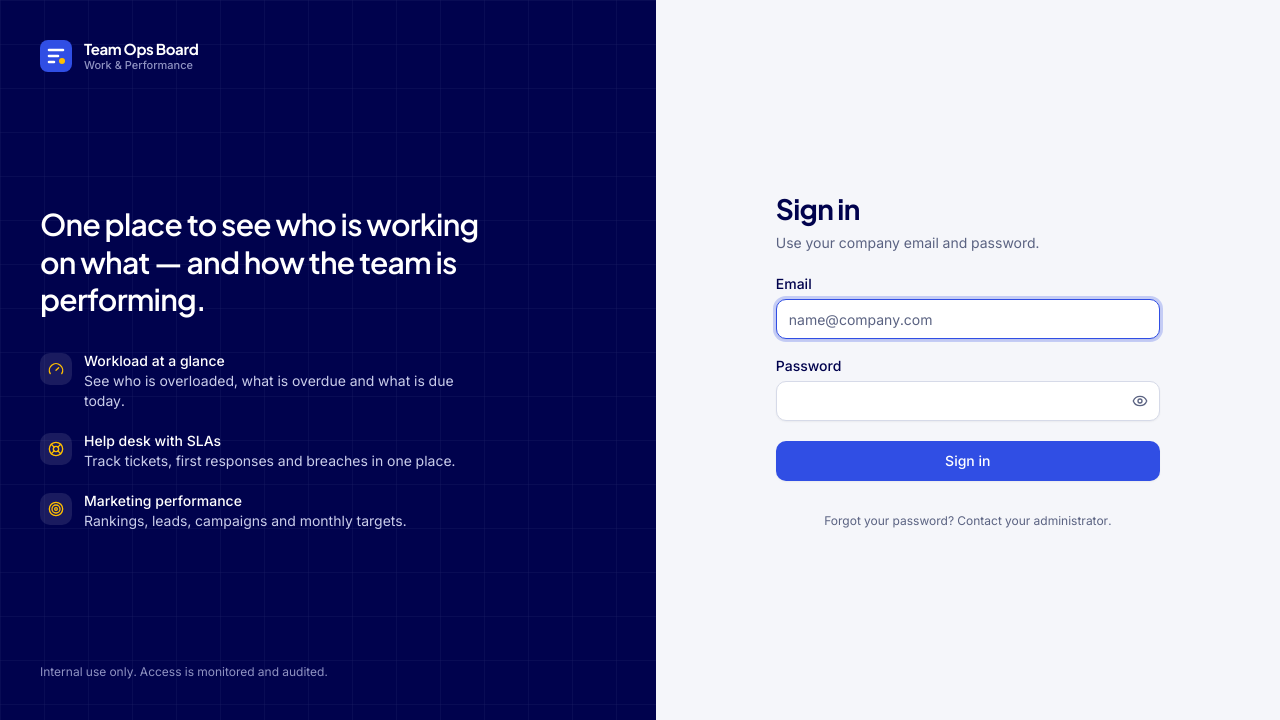
LoginPage › shows the server message when credentials are rejected
The width and height of the screenshot is (1280, 720).
Type "rakesh@teamops.local" into the field labelled "Email". click: (968, 319)
box: [776,299,1160,339]
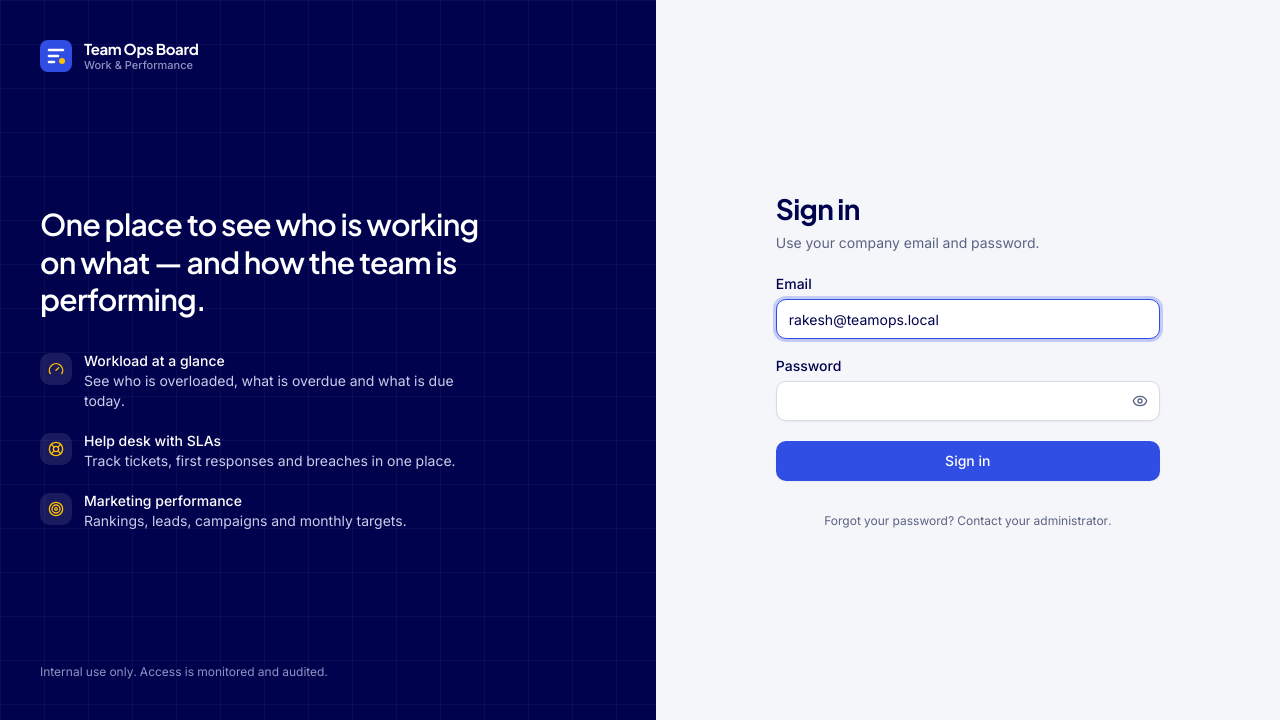
Type "wrong" into the password field labelled "Password". click: (968, 401)
box: [776,381,1160,421]
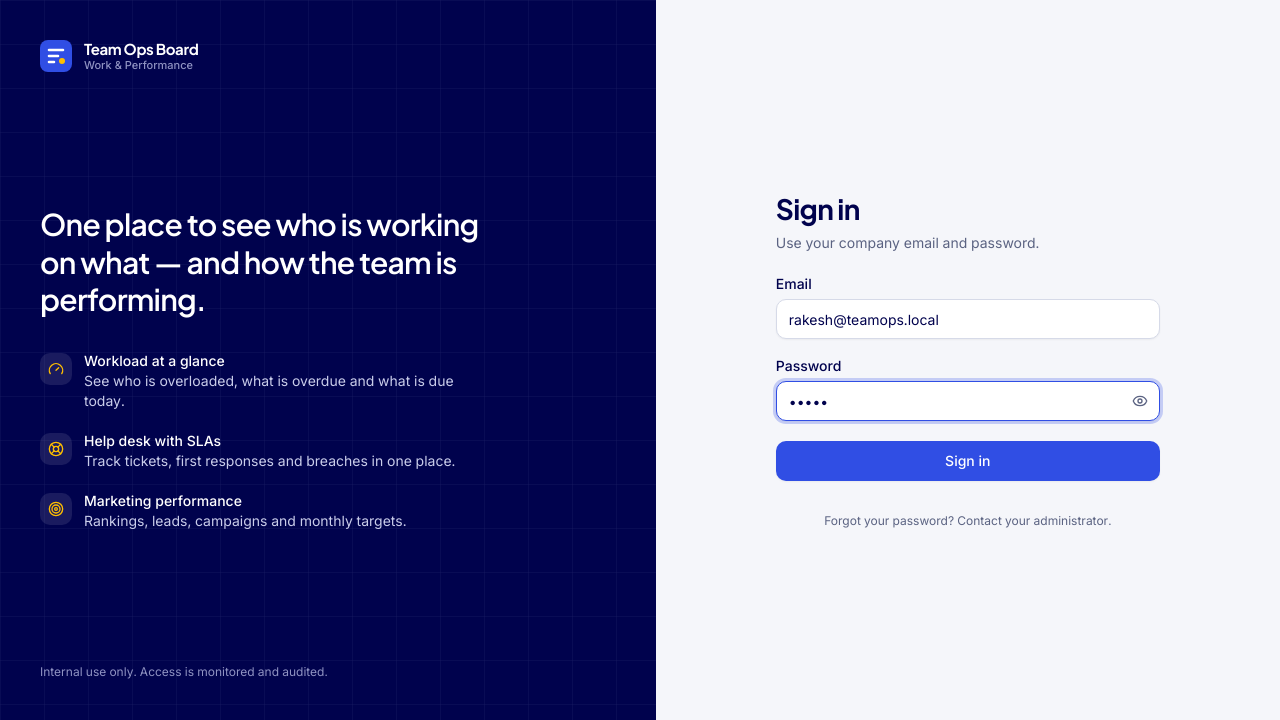
Click the button "Sign in". click: (968, 461)
box: [776,441,1160,481]
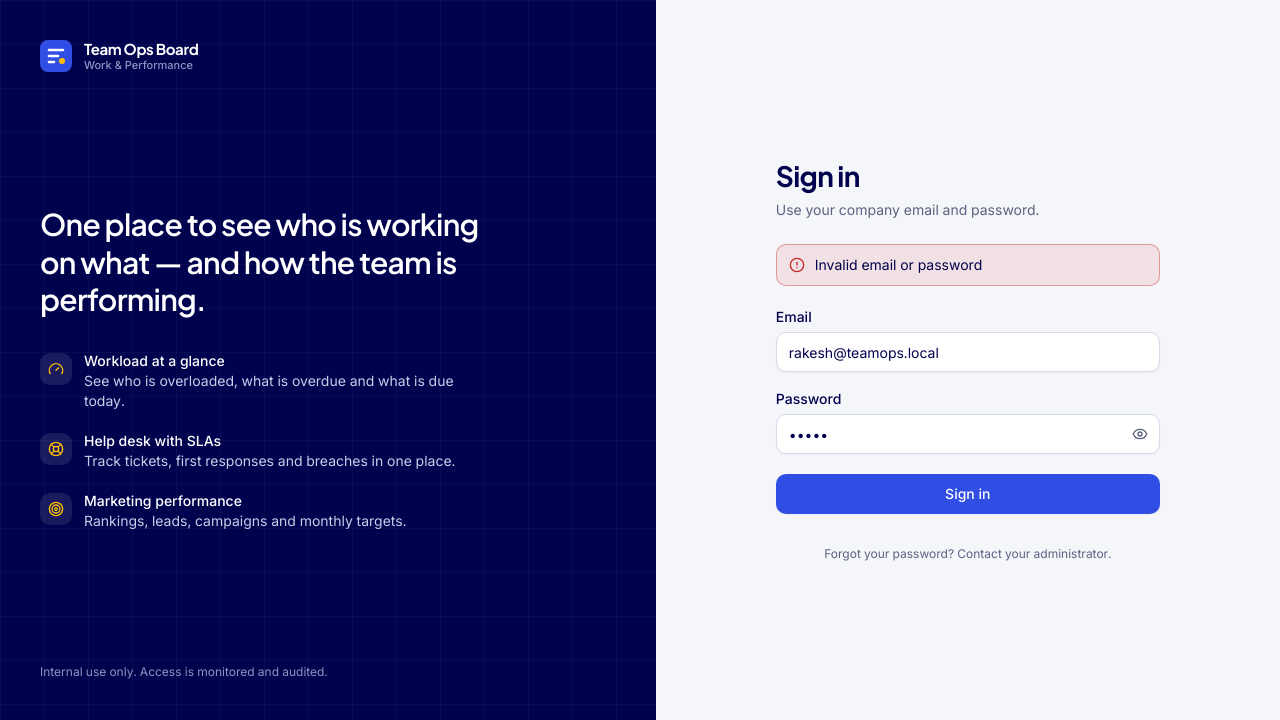
Now the message reads "Invalid email or password", box [815,256,982,273]
